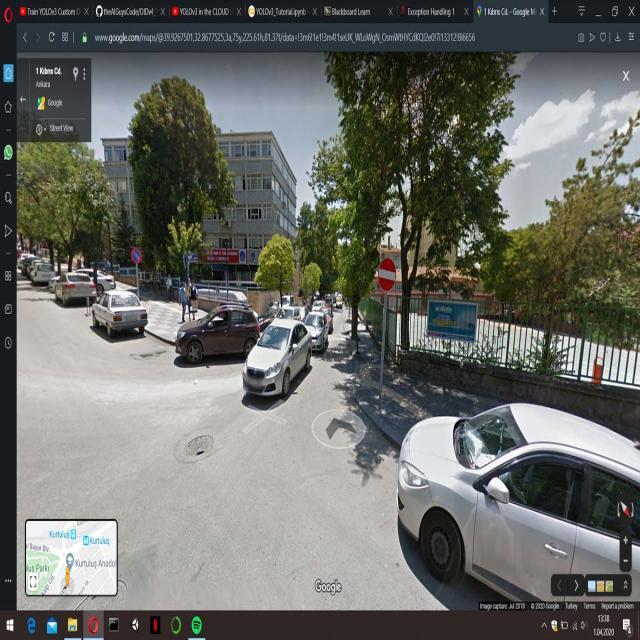girisyok: (377, 259, 397, 293)
parkyasak: (130, 247, 142, 264)
